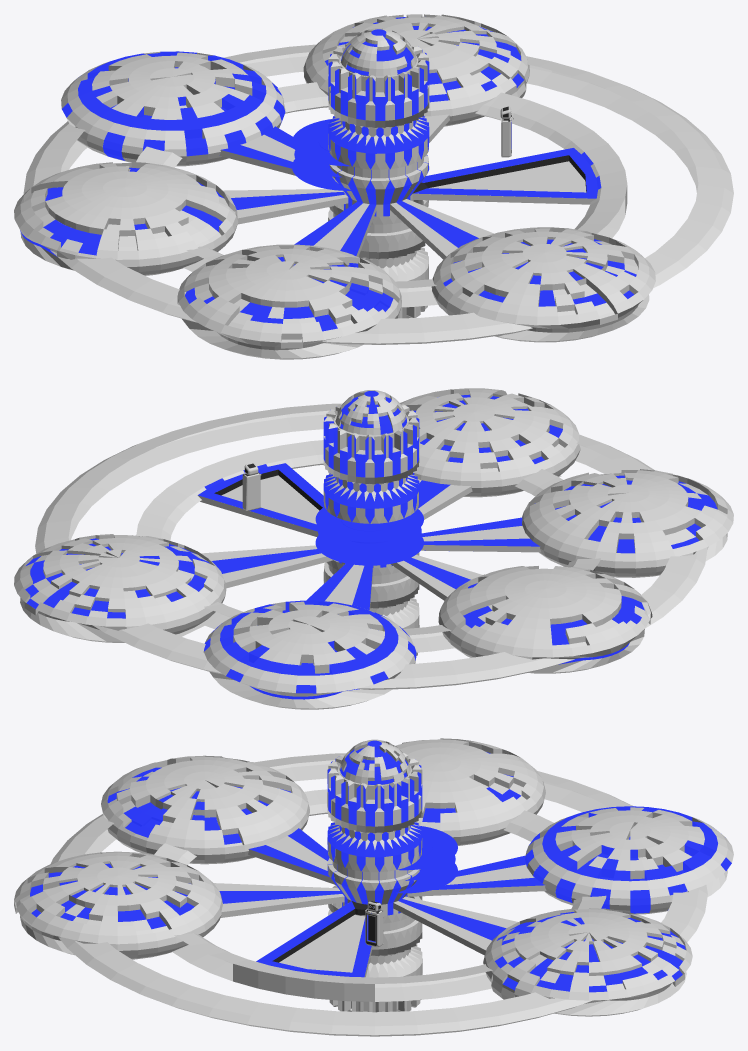
File: spaceStation-centered.glb
3 views of the same model, one above another, from view 1: azimuth 30°, elevation 25°; view 2: azimuth 150°, elevation 25°; view 3: azimuth 270°, elevation 25° (orthographic). The views are drawn at different scales.
Parts seen in each view (by area): view 1: OuterRings, MainCenterRing, Cube; view 2: OuterRings, MainCenterRing, Cube; view 3: OuterRings, MainCenterRing, Cube.
Boxes of the visible parts, x1,y1,x2,y2 form: OuterRings: (14,14,733,359); MainCenterRing: (292,119,388,190); Cube: (500,106,513,157); OuterRings: (14,388,733,709); MainCenterRing: (315,507,423,565); Cube: (242,463,261,511); OuterRings: (14,738,733,1036); MainCenterRing: (396,825,457,893); Cube: (365,901,383,947).
Size of the model in its own units: 104 by 48.07 by 111.
